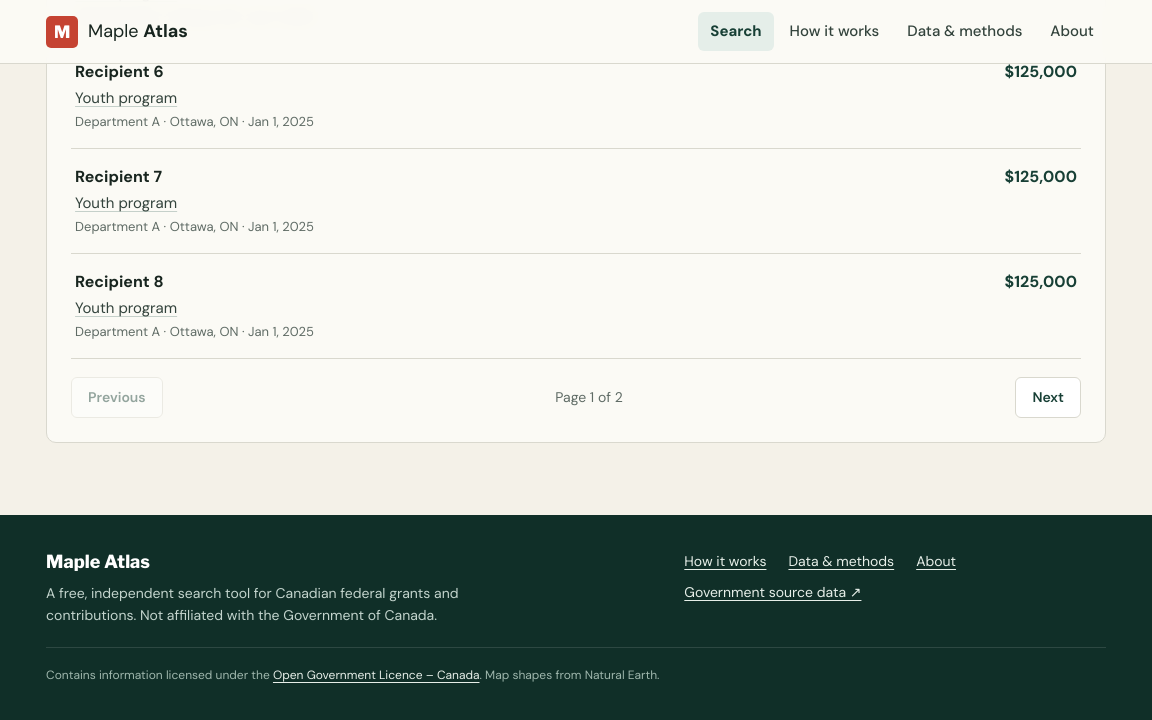
Test case: App › loads bounded result pages
(page scrolled)
Expected: the text "Recipient 9" is not shown
Step 1. Click the button "Next" → {"x": 1048, "y": 398}, box 1015,377 -> 1081,418
(page scrolled)
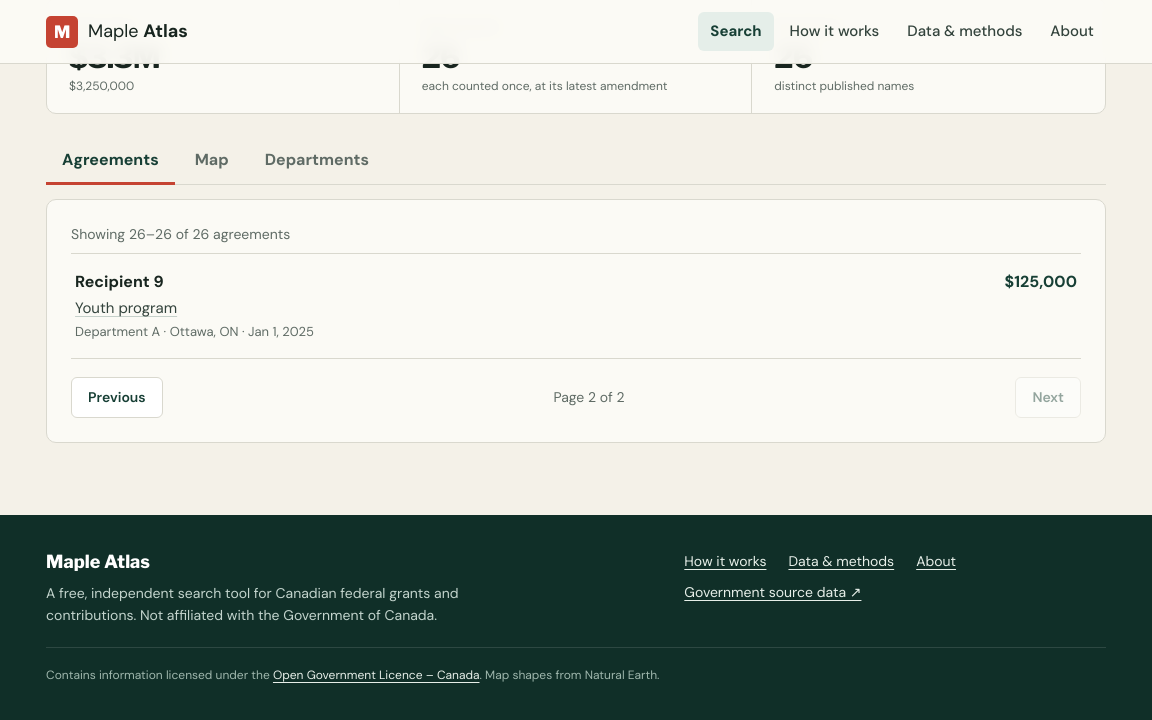
Expected: the text "Recipient 9" is shown, 75,271 -> 164,292
Expected: the text "Page 2 of 2" is shown, 553,387 -> 625,408
